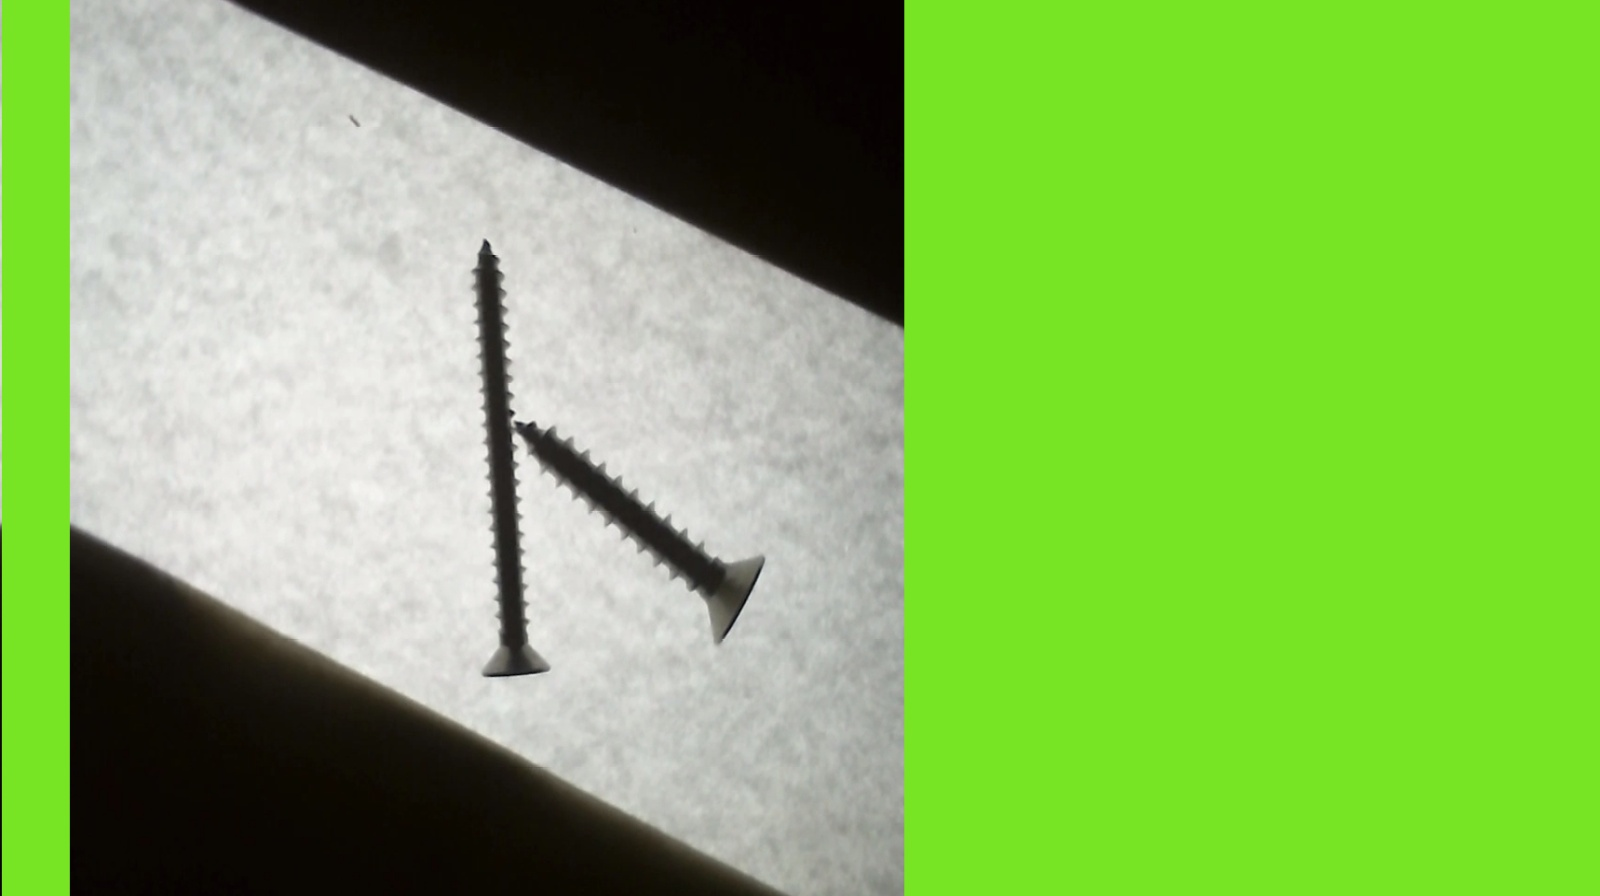S001: (507, 413, 769, 649)
S002: (465, 241, 552, 689)
